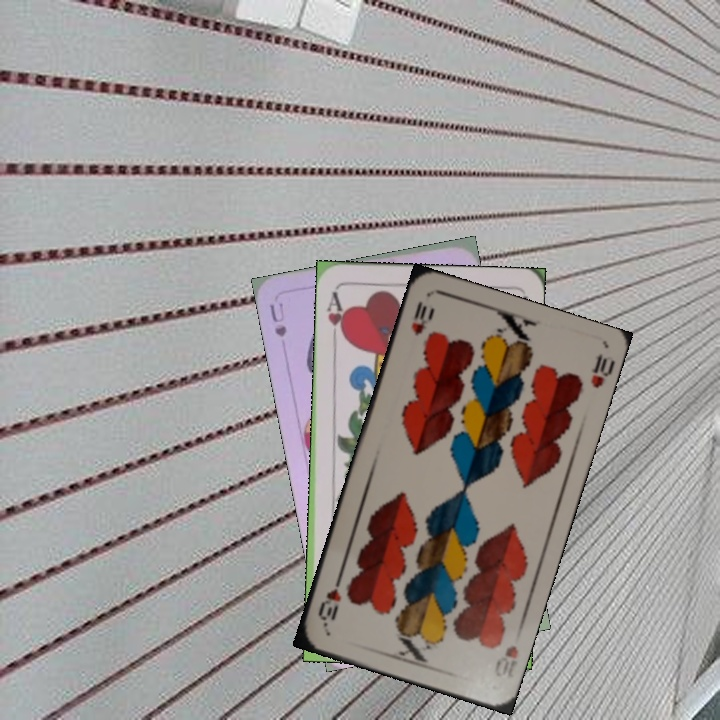H10: (490, 641, 521, 680), (407, 297, 436, 338)
HA: (323, 287, 349, 345)
SU: (265, 298, 290, 339)
